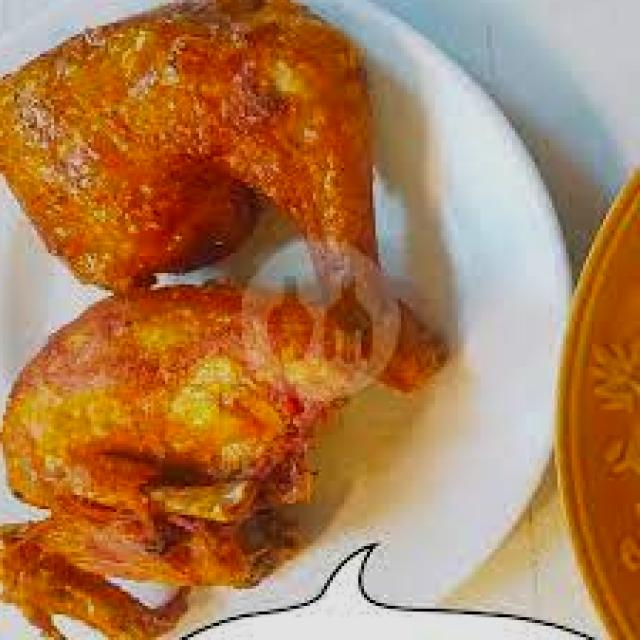ayam goreng: (0, 256, 401, 640), (0, 0, 373, 290)
